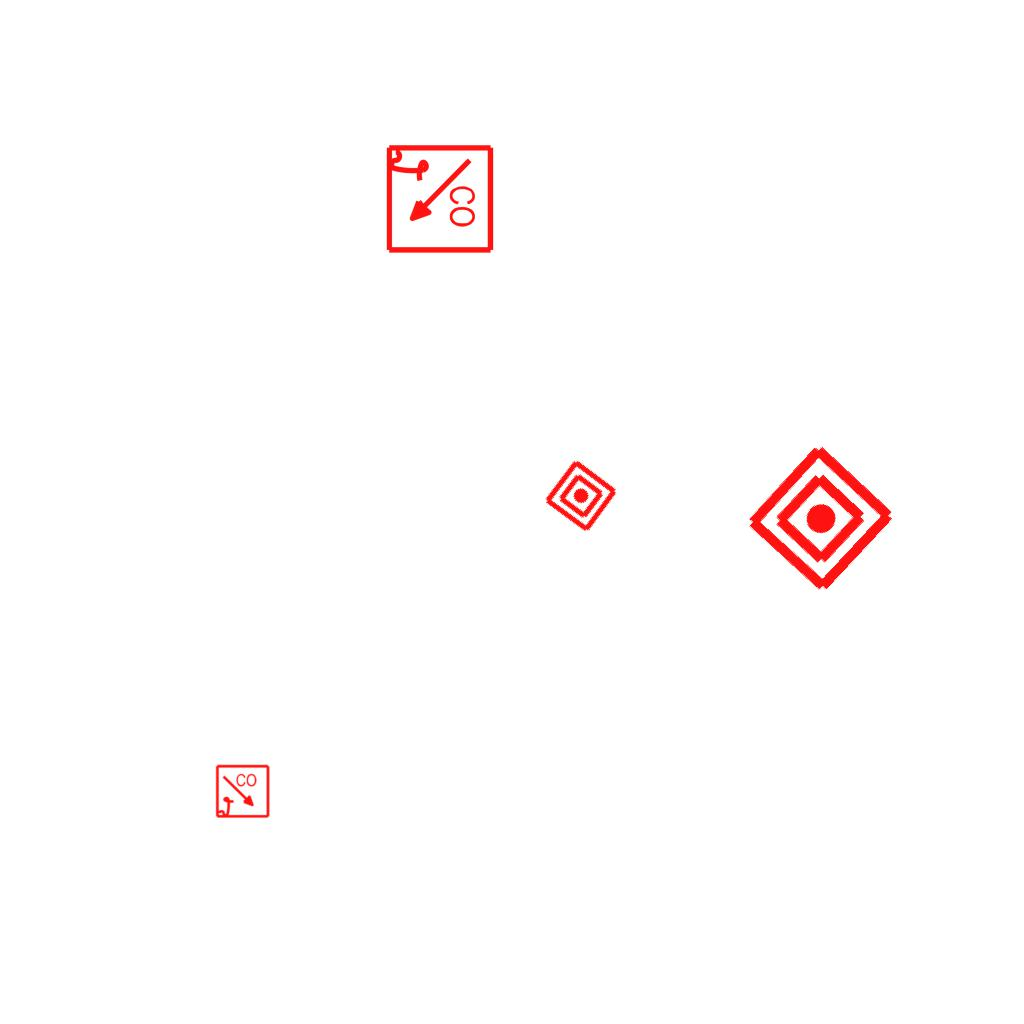NAM-Nichtautomatischer_Melder: (740, 438, 901, 599), (541, 456, 621, 536)
ROA_Rauchmelder_optisch_mit_Signalgeber_(Sockelsirene): (382, 143, 495, 256), (215, 764, 271, 820)
